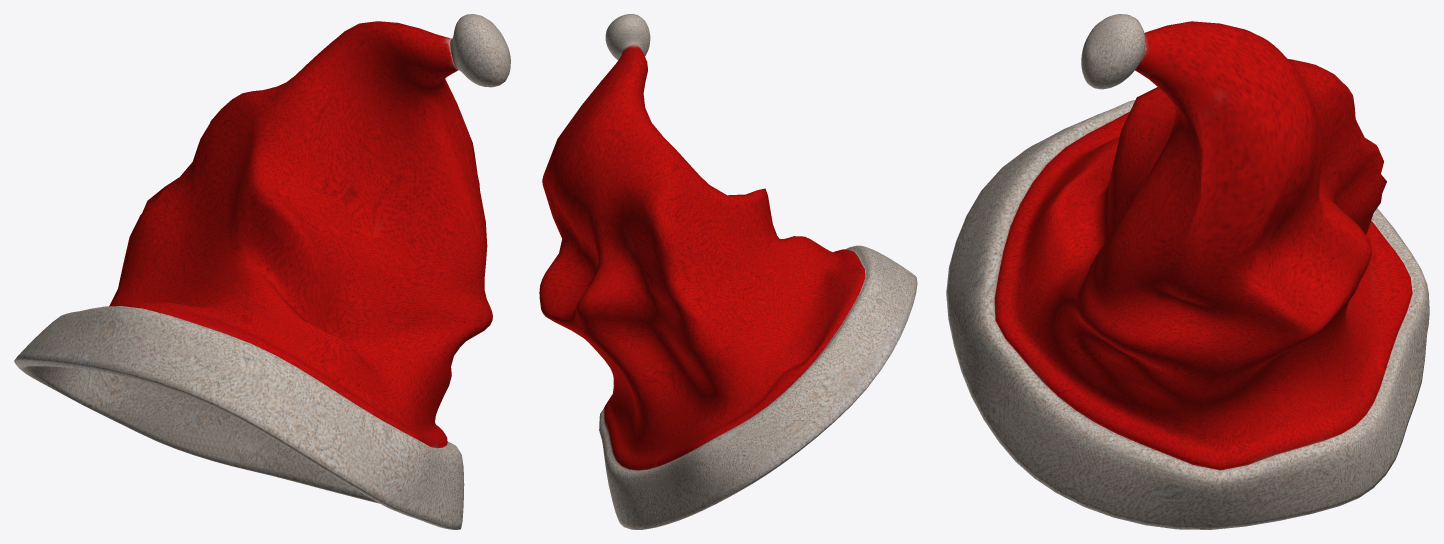
File: lvl2_santa_hat.fbx
The picture shows the model from 3 angles, left to right: view 1: azimuth 30°, elevation 25°; view 2: azimuth 150°, elevation 25°; view 3: azimuth 270°, elevation 25°; orthographic projection. The views are drawn at different scales.
Visible parts, largest first — view 1: santa_hat:SantaHat:Cone; view 2: santa_hat:SantaHat:Cone; view 3: santa_hat:SantaHat:Cone.
Boxes of the visible parts, left/top/right/bottom form: santa_hat:SantaHat:Cone: left=14, top=14, right=510, bottom=529; santa_hat:SantaHat:Cone: left=539, top=14, right=917, bottom=529; santa_hat:SantaHat:Cone: left=946, top=14, right=1429, bottom=529.
Bounding box in the file's own units: 0.6978 × 0.8428 × 0.688.
